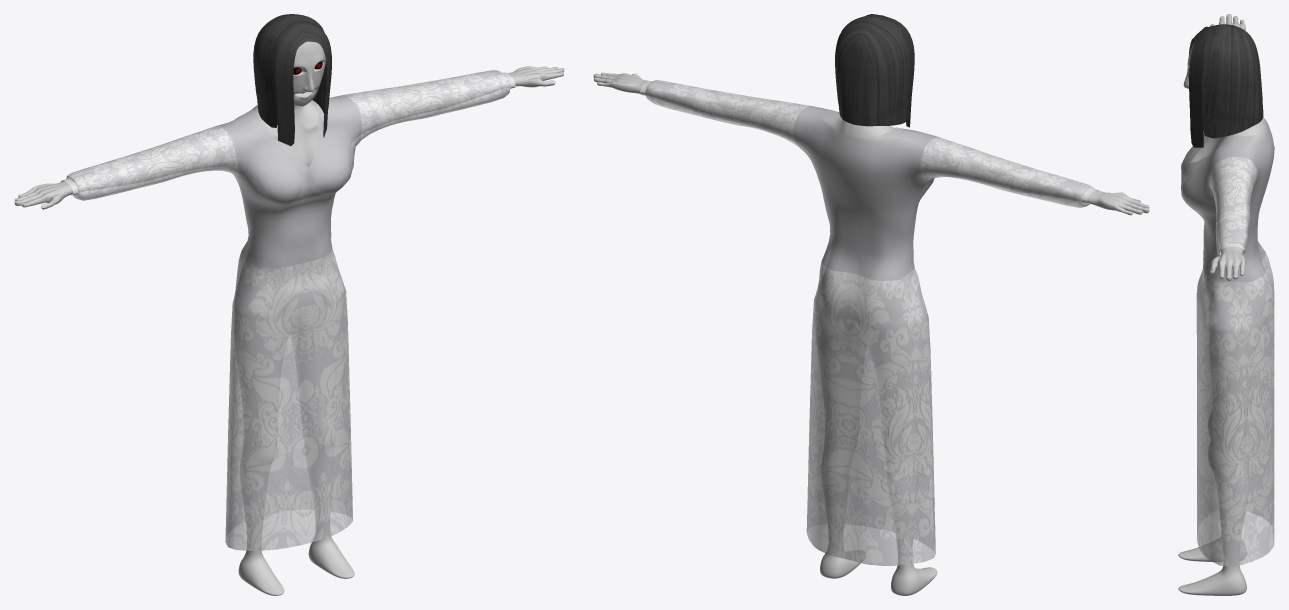
File: ghost.fbx
3 views of the same model, side by side, from view 1: azimuth 30°, elevation 25°; view 2: azimuth 150°, elevation 25°; view 3: azimuth 270°, elevation 25° (orthographic). The views are drawn at different scales.
Parts seen in each view (by area): view 1: polySurface22, polySurface20, polySurface24, polySurface21, polySurface23; view 2: polySurface22, polySurface20, polySurface24; view 3: polySurface22, polySurface20, polySurface24, polySurface23.
Boxes of the visible parts, bbox=[...] form: polySurface22: bbox=[61, 70, 515, 550]; polySurface20: bbox=[14, 41, 564, 595]; polySurface24: bbox=[253, 14, 331, 127]; polySurface21: bbox=[274, 24, 306, 145]; polySurface23: bbox=[299, 23, 331, 137]; polySurface22: bbox=[640, 80, 1098, 565]; polySurface20: bbox=[593, 72, 1149, 595]; polySurface24: bbox=[835, 14, 914, 126]; polySurface22: bbox=[1181, 118, 1274, 566]; polySurface20: bbox=[1178, 14, 1273, 595]; polySurface24: bbox=[1201, 24, 1263, 138]; polySurface23: bbox=[1189, 29, 1210, 147].
Bounding box in the file's own units: 1.64 × 1.58 × 0.252.
7 materials, 2 textured.
